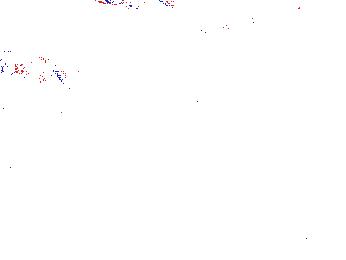red belly glassfish: (293, 1, 304, 16)
redtail glassfish: (1, 48, 74, 91), (196, 11, 260, 36), (95, 1, 176, 11)
siberian prawn: (1, 218, 37, 254)
